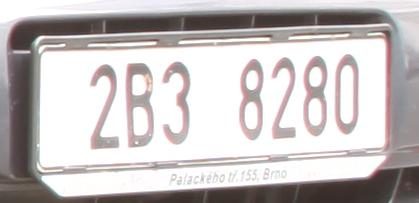0: (334, 54, 357, 134)
2: (88, 63, 119, 148), (272, 57, 296, 138)
3: (161, 63, 188, 144)
8: (304, 56, 328, 137), (238, 58, 261, 141)
B: (126, 64, 153, 146)
